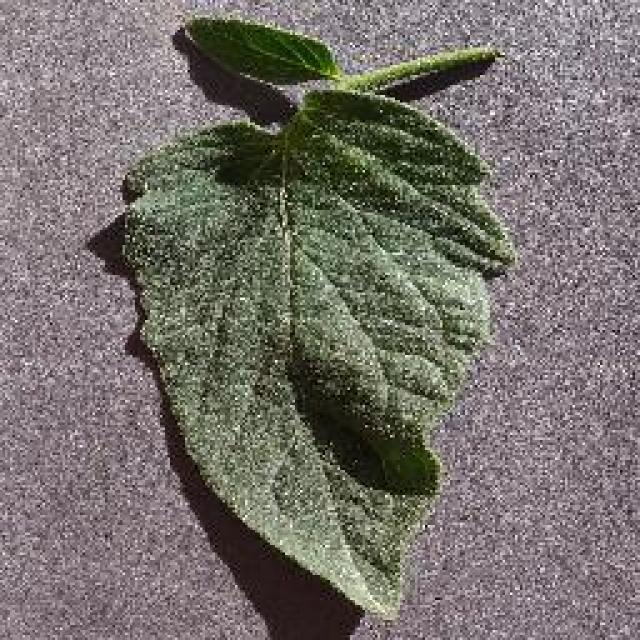Tomato___healthy: (110, 17, 526, 620)
